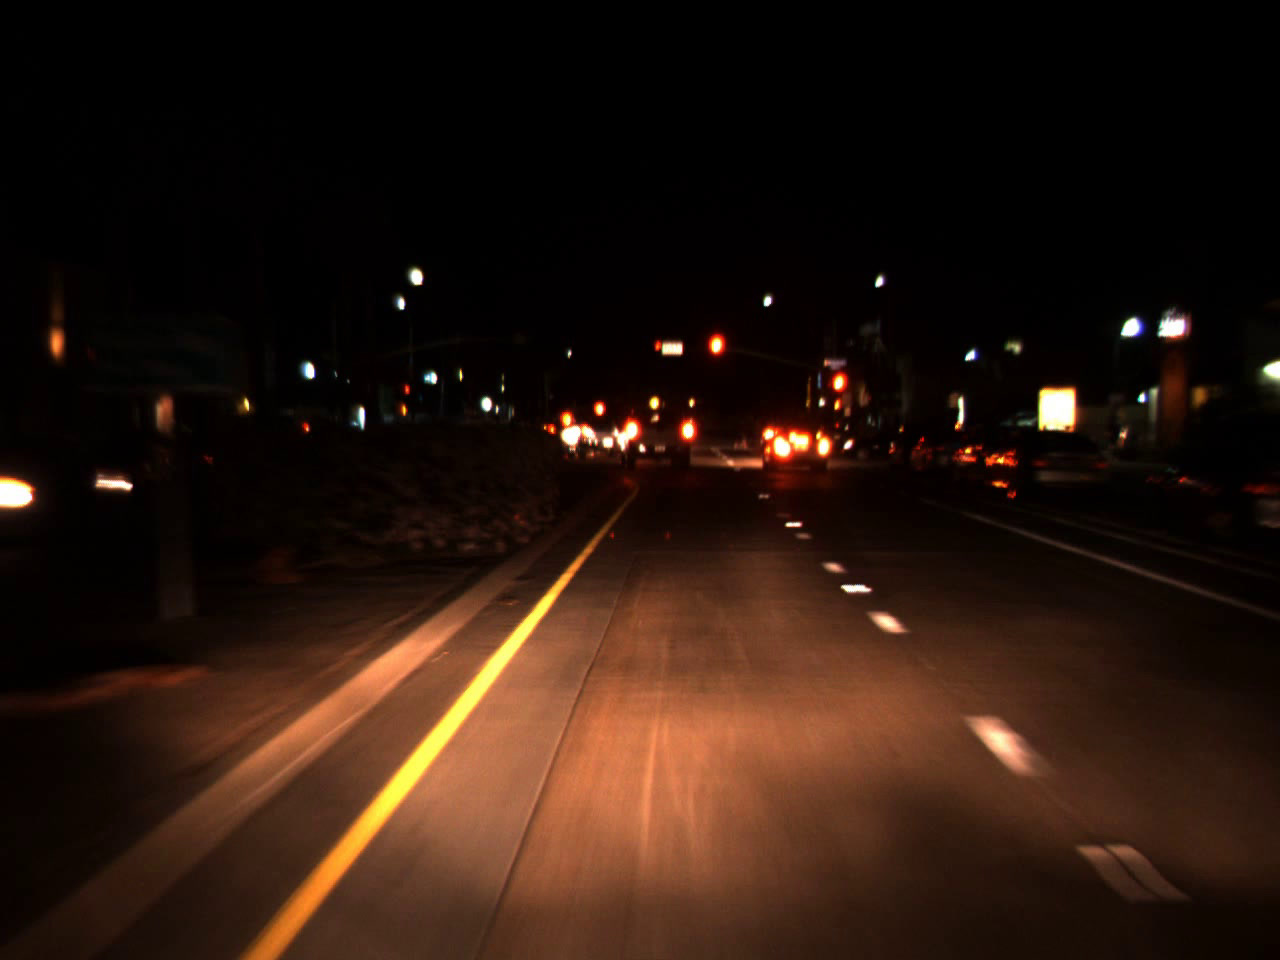stop: (705, 329, 727, 383), (828, 367, 850, 421), (654, 340, 661, 361), (404, 384, 410, 402)
